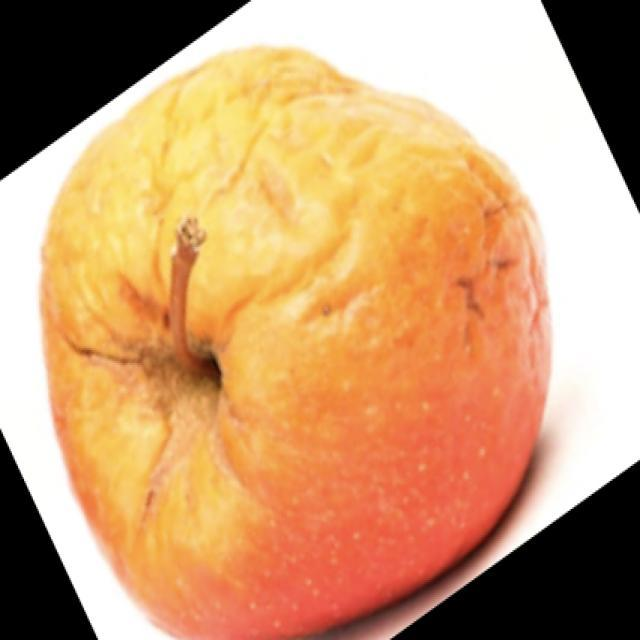Rotten: (28, 38, 555, 620)
